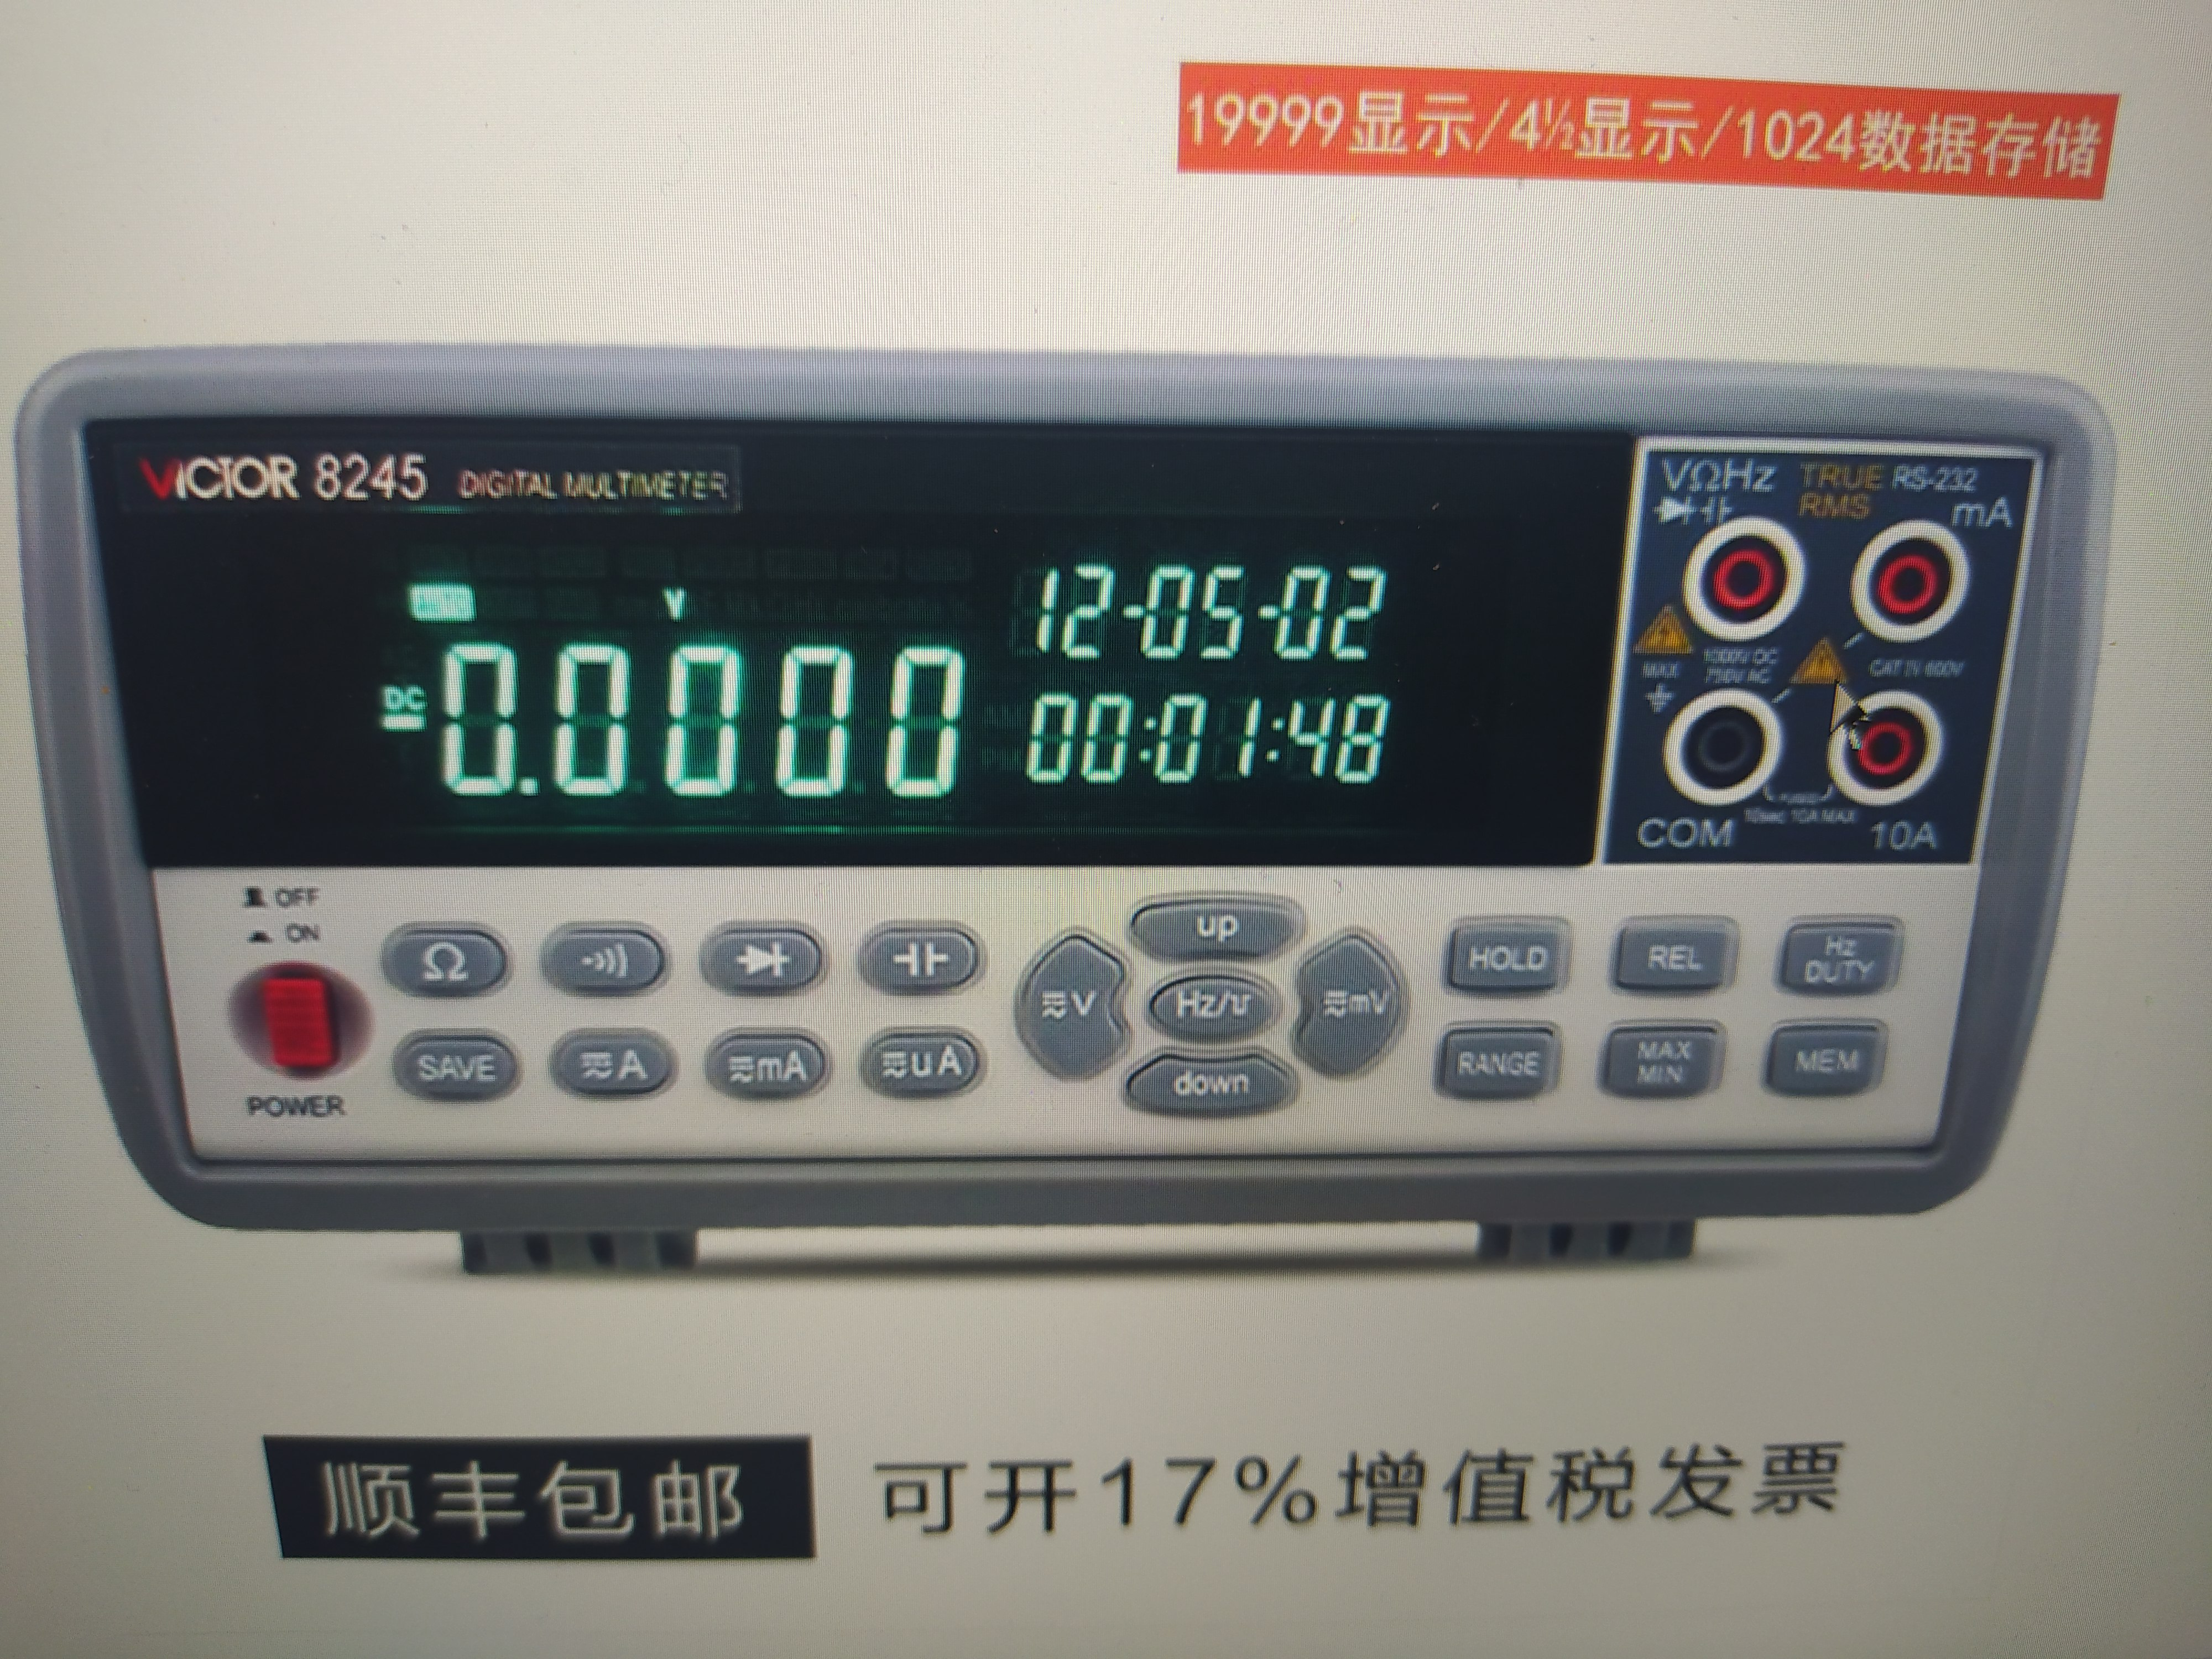.: (517, 643, 540, 800), (1264, 688, 1289, 739), (1137, 688, 1162, 737), (1263, 741, 1284, 786), (1136, 744, 1157, 788)
0: (657, 645, 745, 803), (881, 638, 967, 800), (543, 645, 631, 798), (773, 641, 853, 802), (442, 640, 517, 800), (1073, 690, 1134, 788), (1137, 563, 1195, 660), (1278, 563, 1329, 666), (1028, 690, 1076, 788), (1157, 692, 1207, 786), (1759, 101, 1796, 167), (1886, 812, 1912, 857)
1: (1097, 1450, 1157, 1542), (1230, 692, 1270, 784), (1036, 566, 1061, 659), (1184, 87, 1211, 152), (1735, 105, 1761, 164), (1869, 812, 1888, 854), (1541, 94, 1555, 129)
2: (1332, 565, 1388, 667), (1064, 563, 1109, 667), (1794, 103, 1827, 167), (341, 451, 368, 504), (1559, 120, 1581, 162), (1965, 464, 1980, 495), (1935, 464, 1951, 493)
3: (1952, 464, 1963, 497)
4: (1289, 692, 1336, 781), (1508, 94, 1543, 160), (1829, 103, 1862, 173), (364, 453, 395, 505)
5: (1195, 561, 1247, 662), (397, 450, 432, 507)
7: (1158, 1450, 1223, 1537)
8: (1336, 694, 1390, 786), (307, 450, 341, 500)
9: (1240, 82, 1278, 155), (1278, 82, 1313, 159), (1312, 82, 1345, 159), (1211, 85, 1245, 153)
